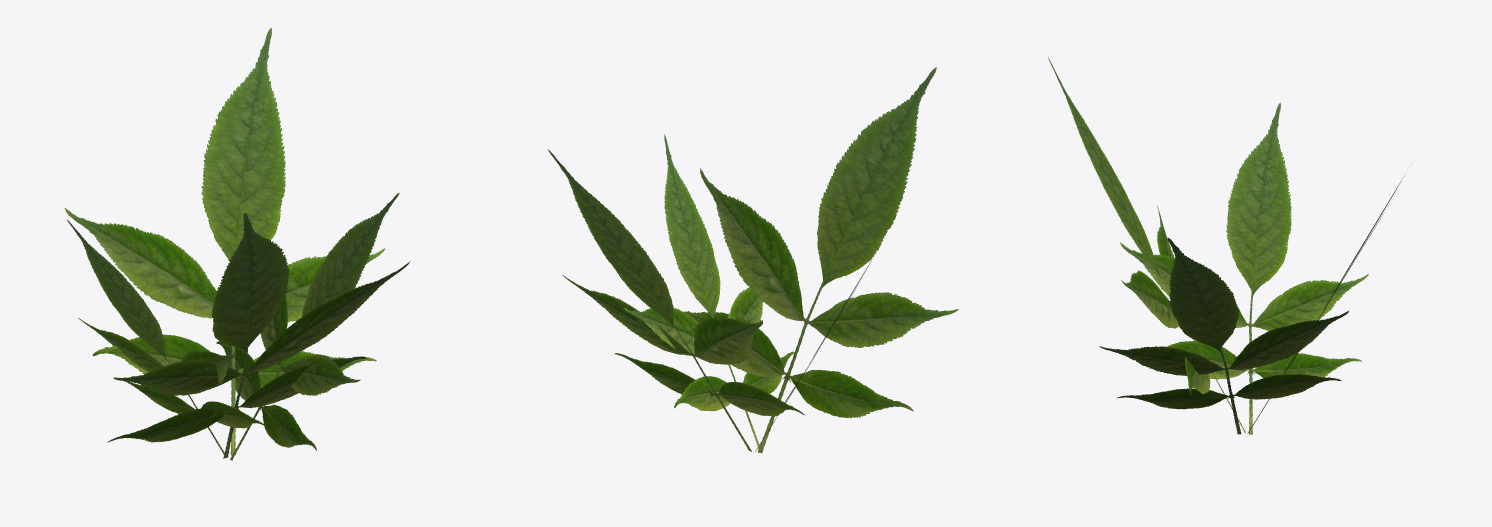
The model's file is plant-1.fbx.
3 renders of one model, left to right at view 1: azimuth 30°, elevation 25°; view 2: azimuth 150°, elevation 25°; view 3: azimuth 270°, elevation 25°, orthographic.
Parts seen in each view (by area): view 1: Mesh; view 2: Mesh; view 3: Mesh.
Boxes of the visible parts, <box> form: Mesh: <box>64,27,410,460</box>; Mesh: <box>548,67,958,453</box>; Mesh: <box>1048,57,1411,434</box>.
Bounding box in the file's own units: 106 × 93.44 × 107.
